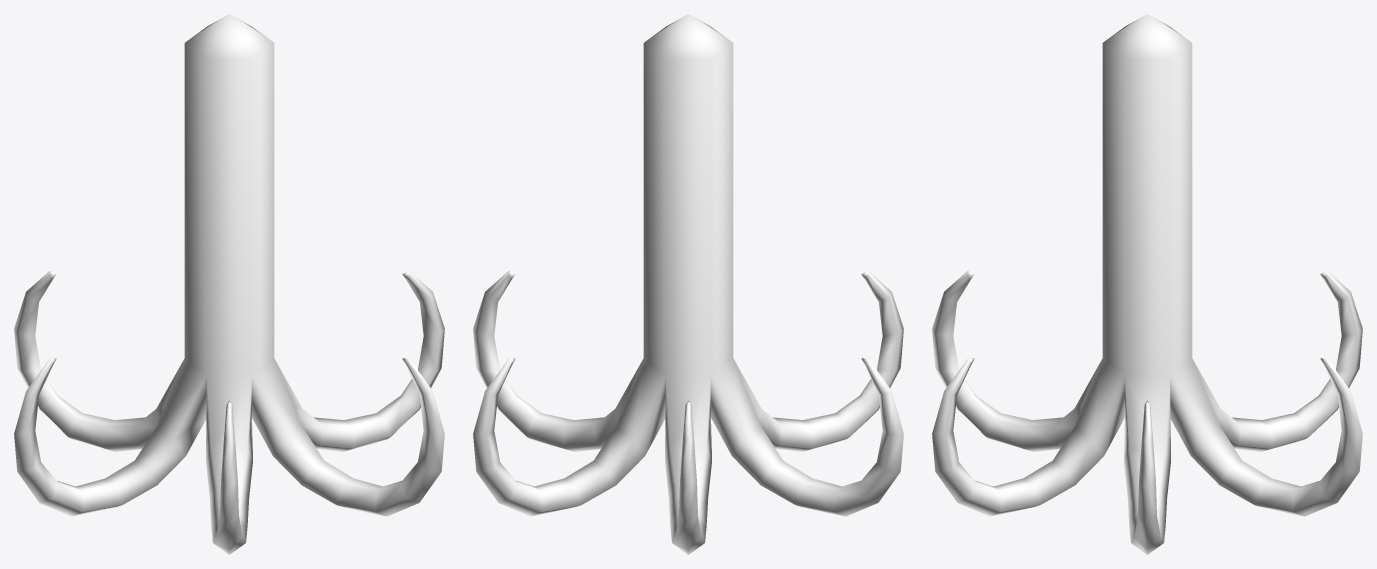
Rendered from Fishing Needle2.fbx.
3 renders of one model, left to right at view 1: azimuth 30°, elevation 25°; view 2: azimuth 150°, elevation 25°; view 3: azimuth 270°, elevation 25°, orthographic.
Parts seen in each view (by area): view 1: Fishing Needle_2; view 2: Fishing Needle_2; view 3: Fishing Needle_2.
Part boxes in pixels (bbox=[...]): Fishing Needle_2: bbox=[14, 14, 444, 554]; Fishing Needle_2: bbox=[473, 14, 903, 554]; Fishing Needle_2: bbox=[932, 14, 1362, 554].
Bounding box in the file's own units: 7.4 × 7.64 × 6.4.
Materials: 1 (1 with a texture image).
